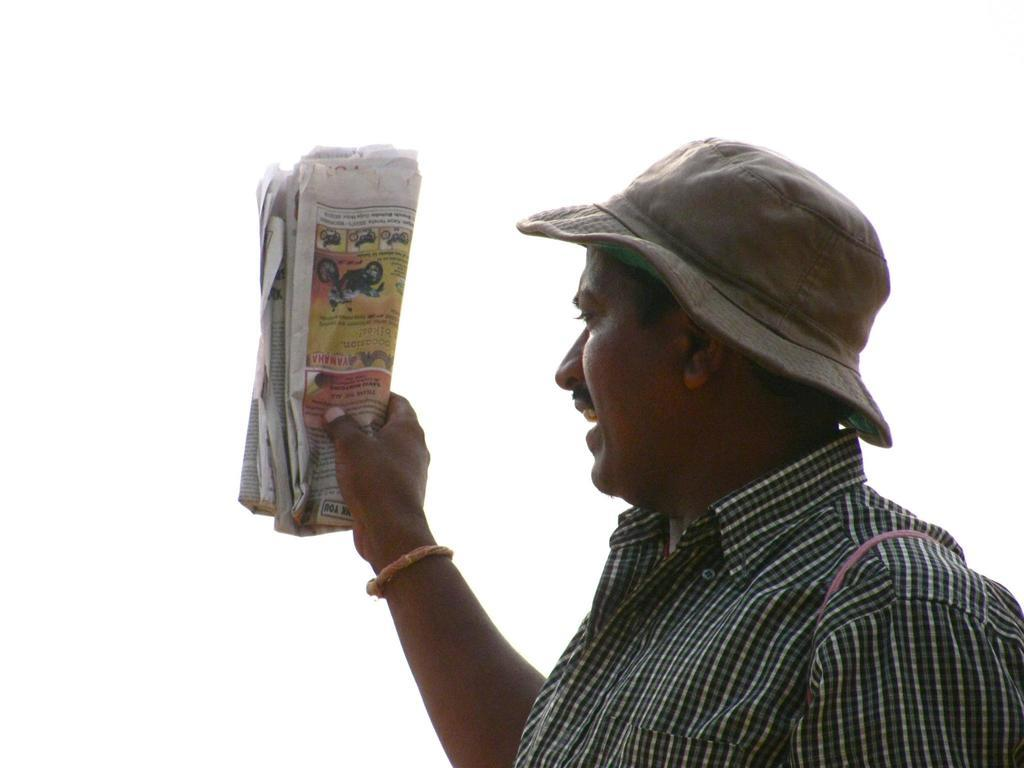Hat: (514, 134, 892, 448)
